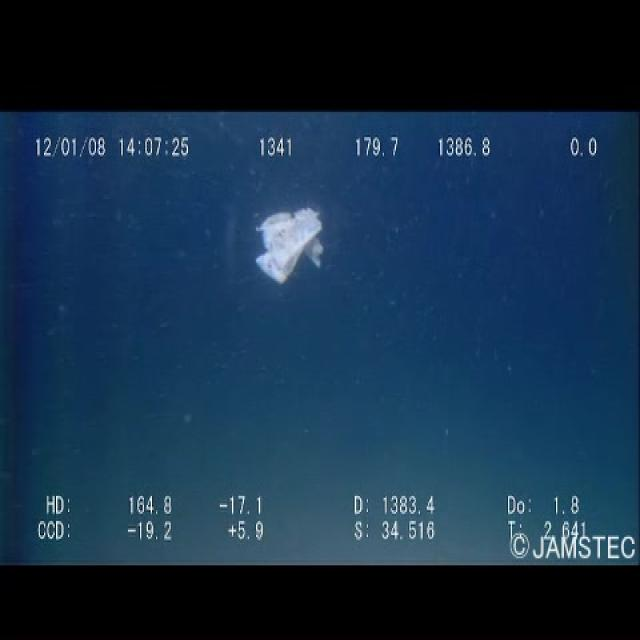plastic: (249, 199, 328, 290)
